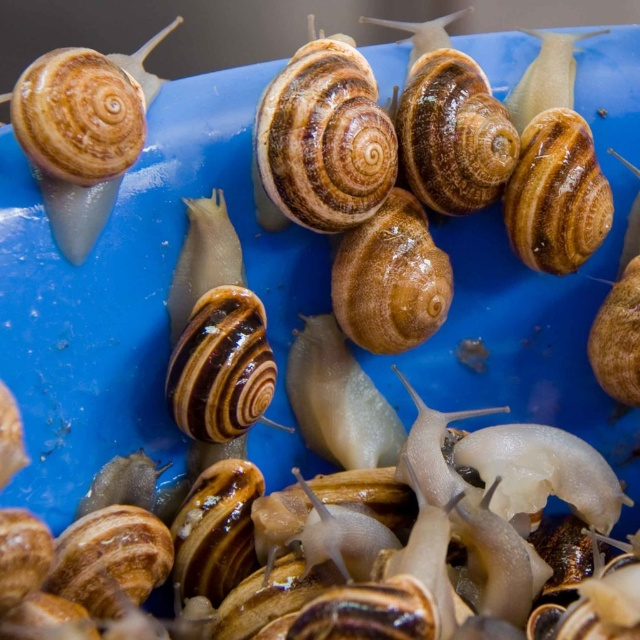Snail: (0, 6, 640, 640)
